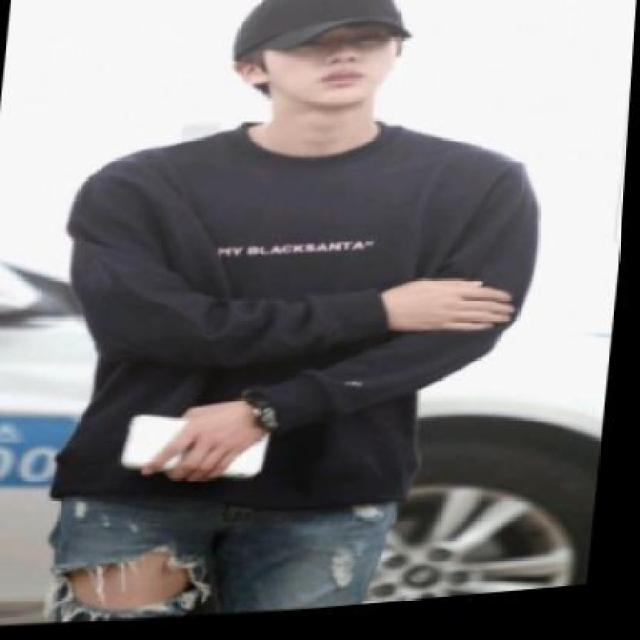hat: (235, 0, 422, 74)
